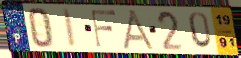0: (27, 6, 55, 49), (187, 11, 213, 51)
2: (156, 10, 184, 51)
A: (121, 8, 158, 51)
F: (90, 9, 118, 49)
I: (61, 8, 78, 49)
